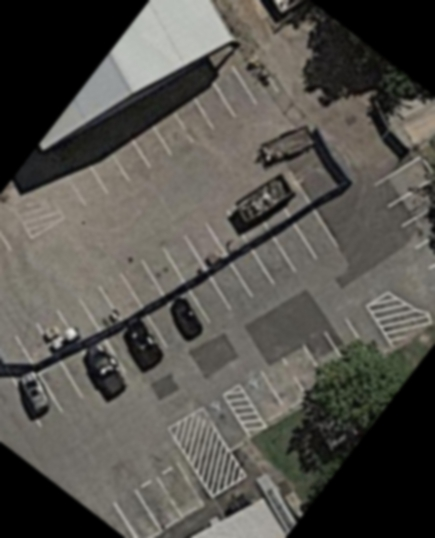parkingspot: (11, 204, 343, 429), (56, 47, 282, 211), (53, 207, 252, 343), (238, 301, 395, 426), (91, 455, 210, 538), (371, 153, 435, 285), (198, 390, 252, 452), (0, 195, 35, 262), (37, 366, 41, 369)
